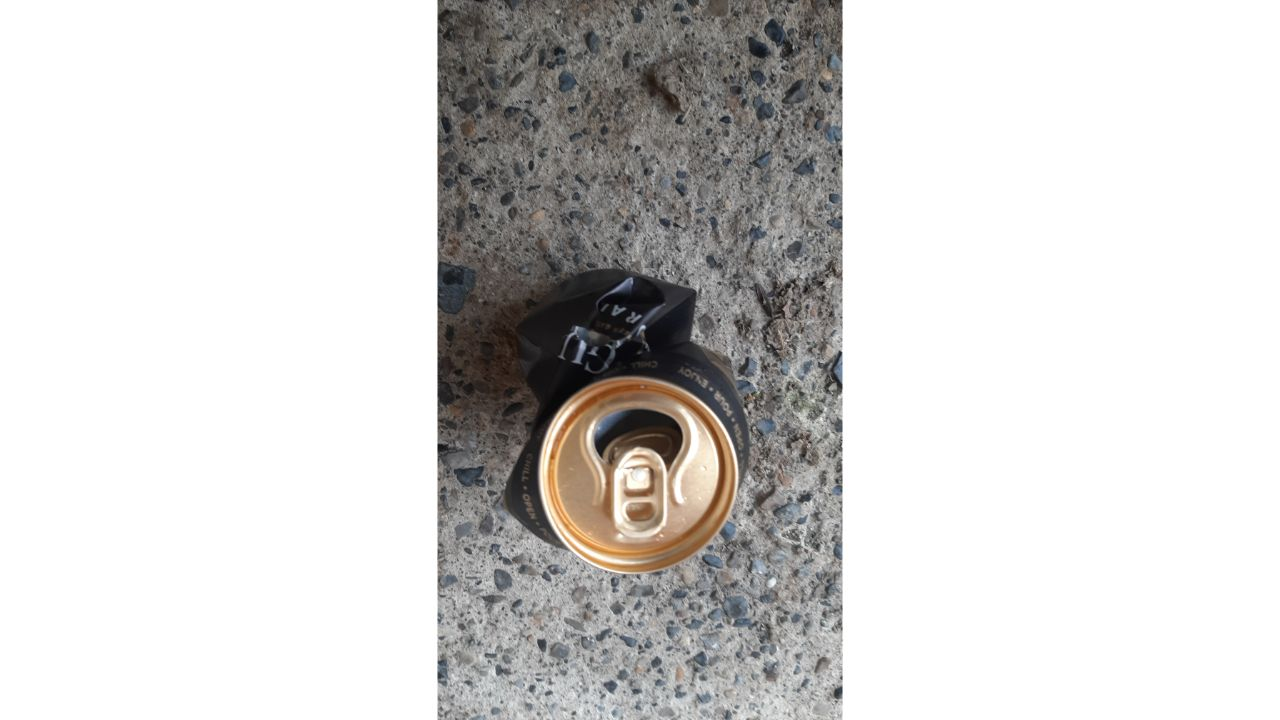Can: (500, 269, 752, 577)
